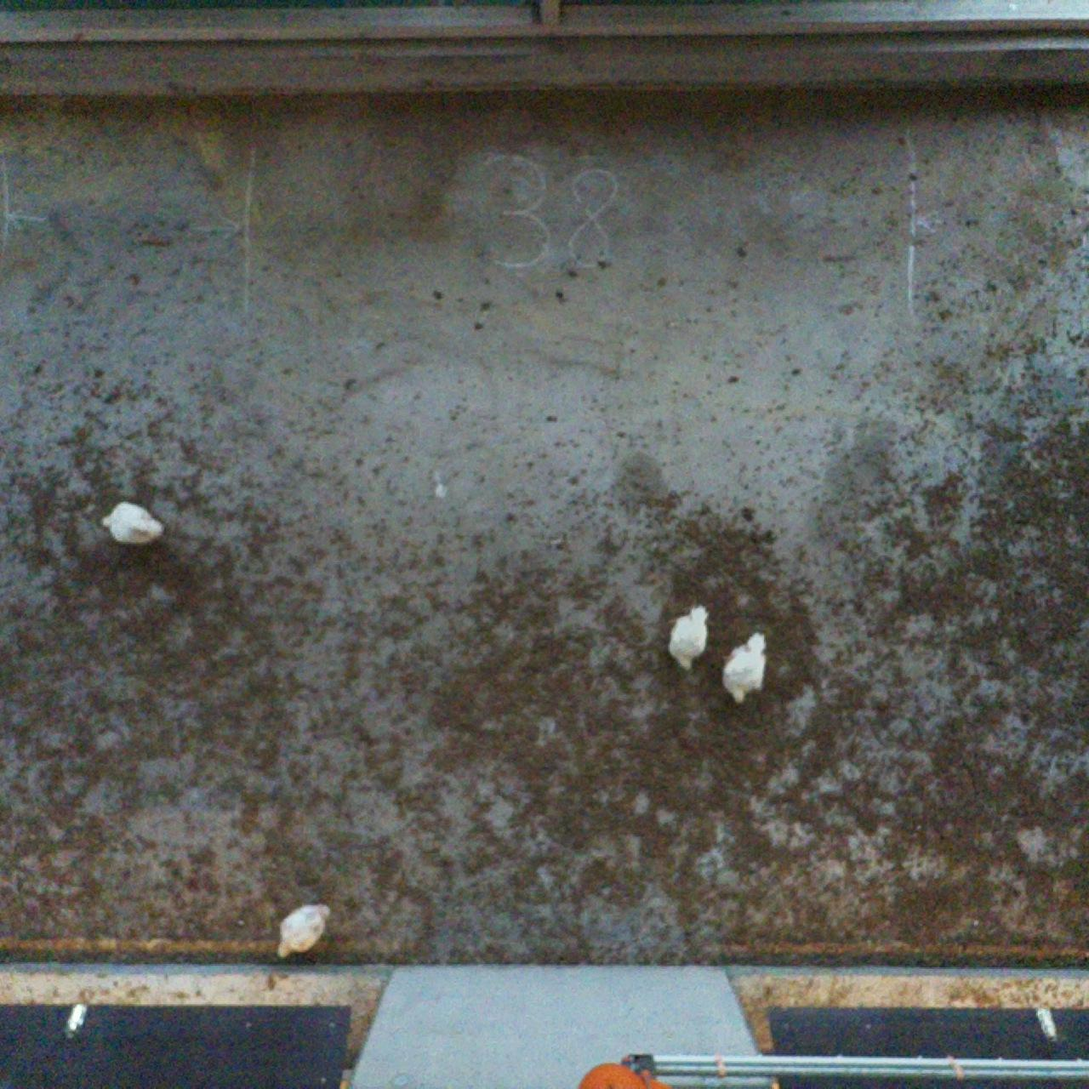chicken: (717, 628, 772, 707), (662, 599, 714, 676), (275, 899, 334, 961), (100, 499, 170, 551)
